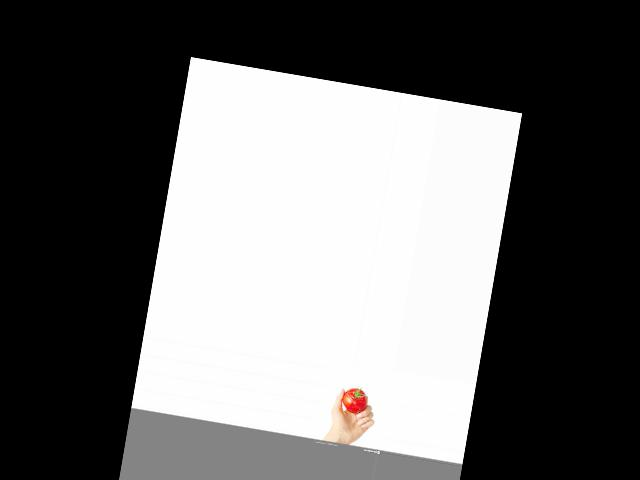tomato: (340, 385, 368, 415)
